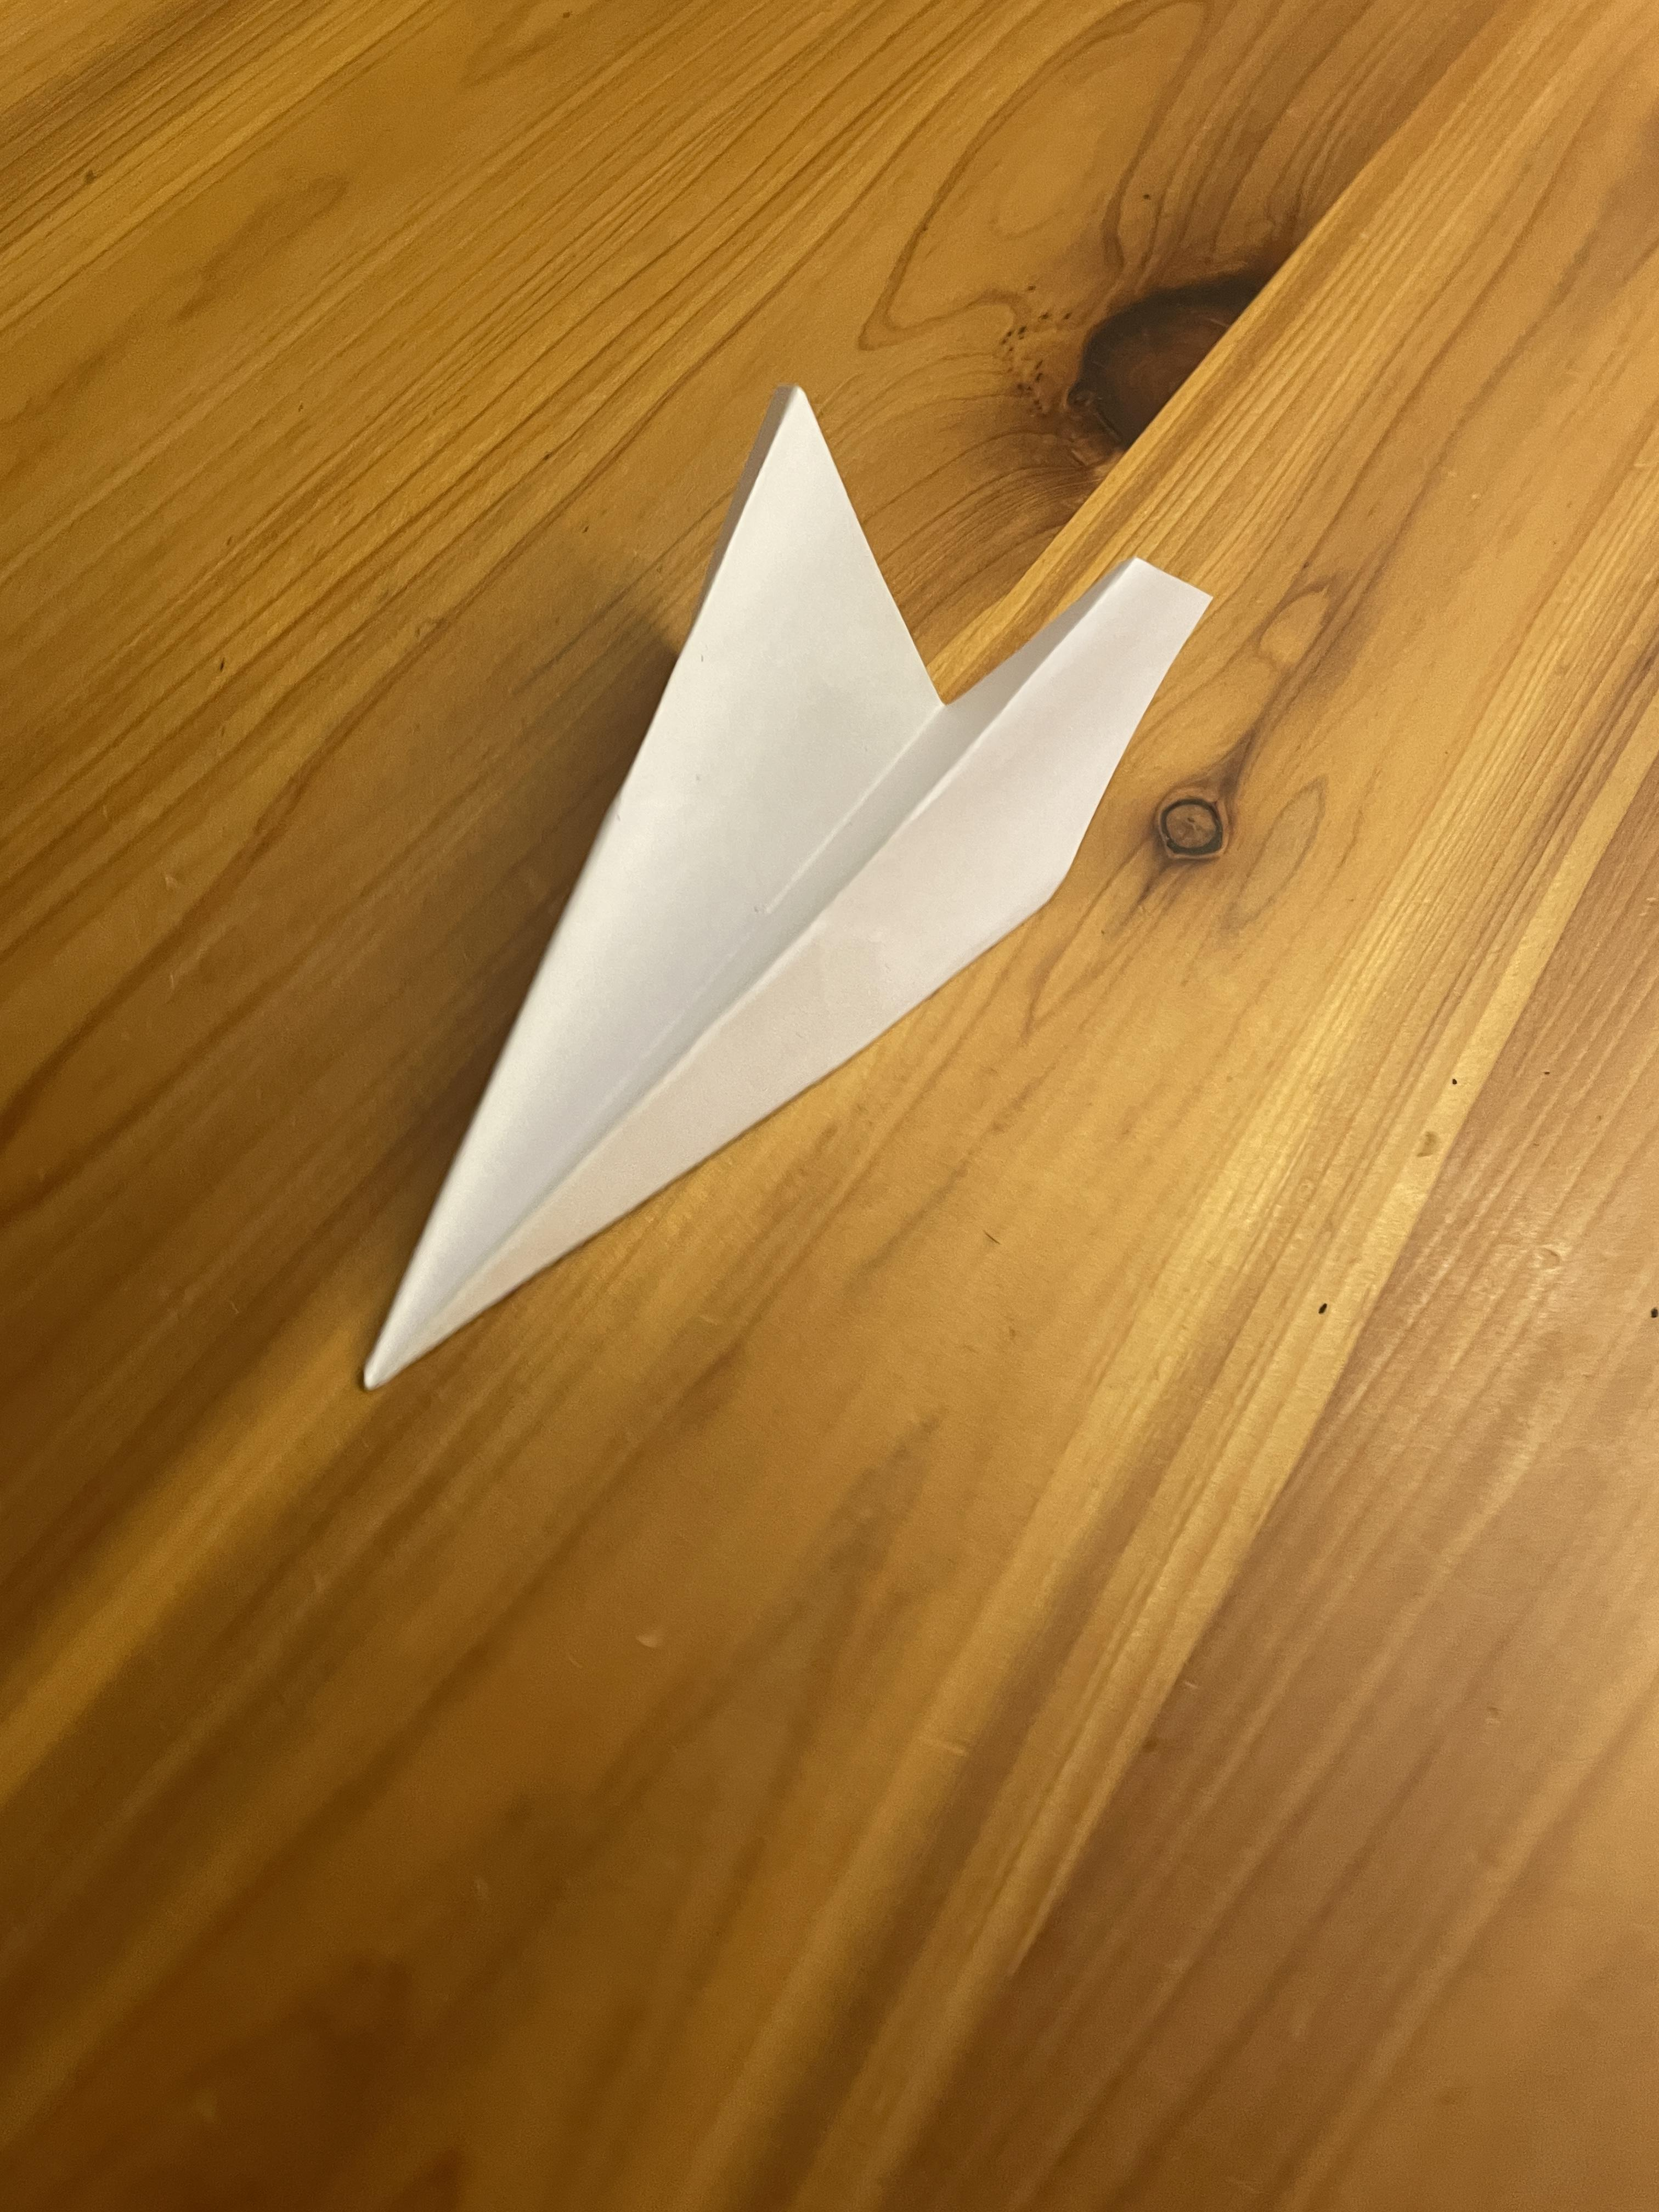shape_3: (214, 155, 1492, 1547)
